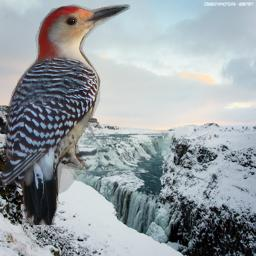Woodpecker: (0, 4, 130, 225)
